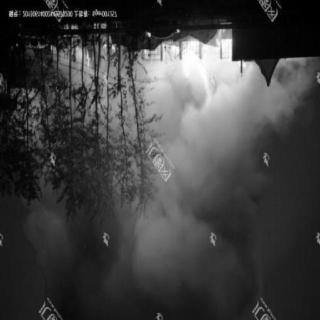Smoke: (41, 91, 289, 309)
